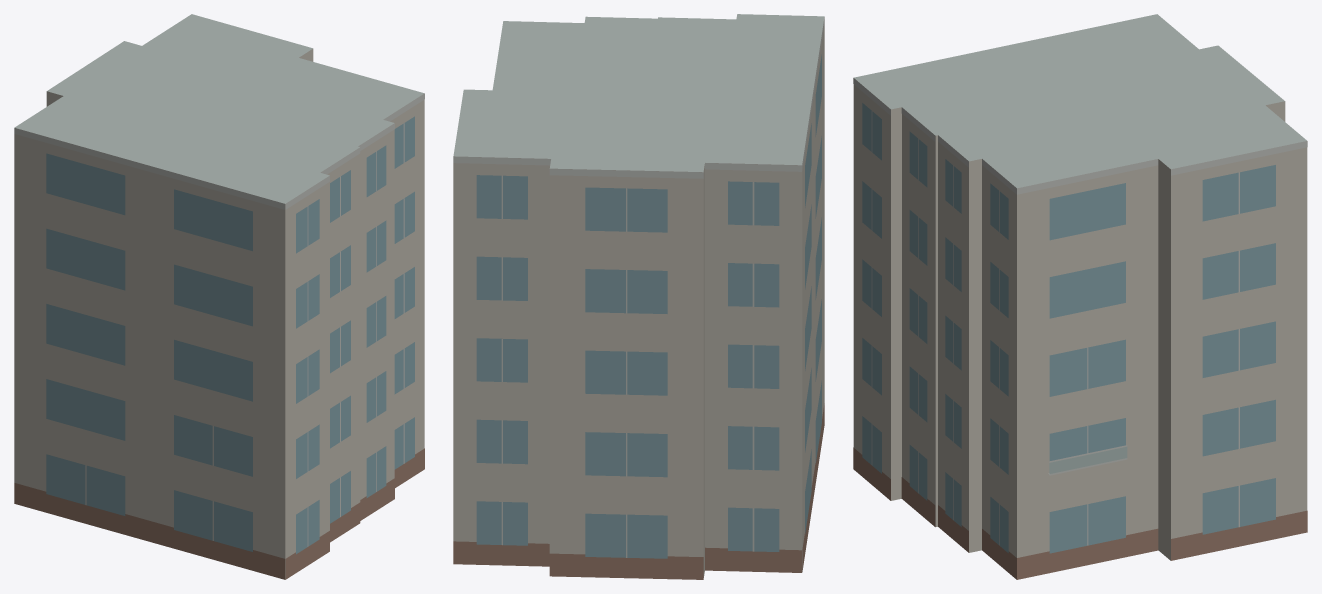
File: survey-upis-32608068.glb
3 renders of one model, left to right at view 1: azimuth 30°, elevation 25°; view 2: azimuth 150°, elevation 25°; view 3: azimuth 270°, elevation 25°, orthographic. The views are drawn at different scales.
Parts seen in each view (by area): view 1: survey-upis-32608068.tmp; view 2: survey-upis-32608068.tmp; view 3: survey-upis-32608068.tmp.
Boxes of the visible parts, x1=… form: survey-upis-32608068.tmp: x1=14, y1=14, x2=424, y2=579; survey-upis-32608068.tmp: x1=453, y1=14, x2=824, y2=579; survey-upis-32608068.tmp: x1=853, y1=14, x2=1307, y2=579.
Bounding box in the file's own units: 14.24 × 14.9 × 15.67.
